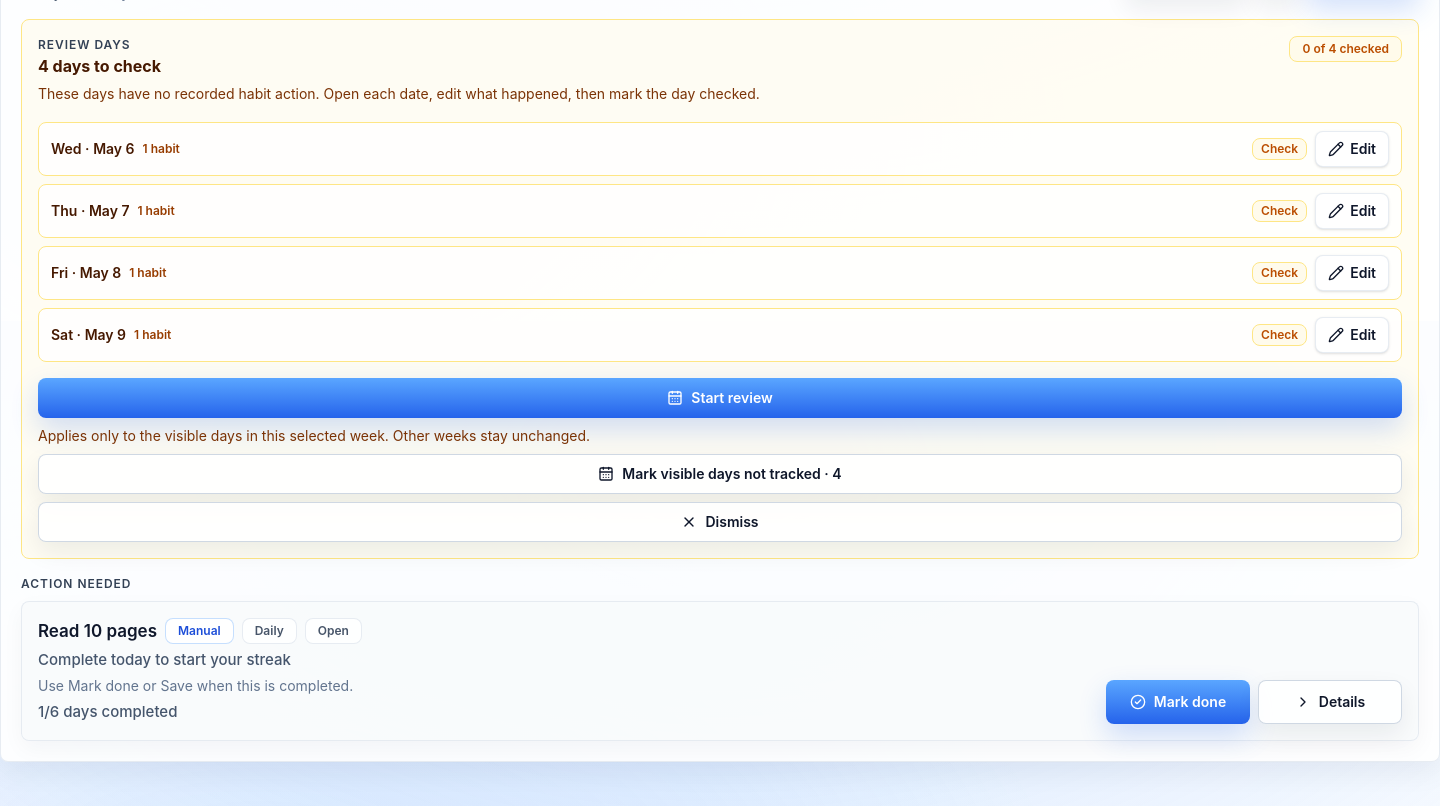
Scenario: HabitPerfectDayHub › keeps an already not-tracked date out of the visible batch request
(page scrolled)
Click the button named "Mark all 4 visible review days not tracked in this selected week" at (720, 474), box [38,454,1402,494]
(page scrolled)
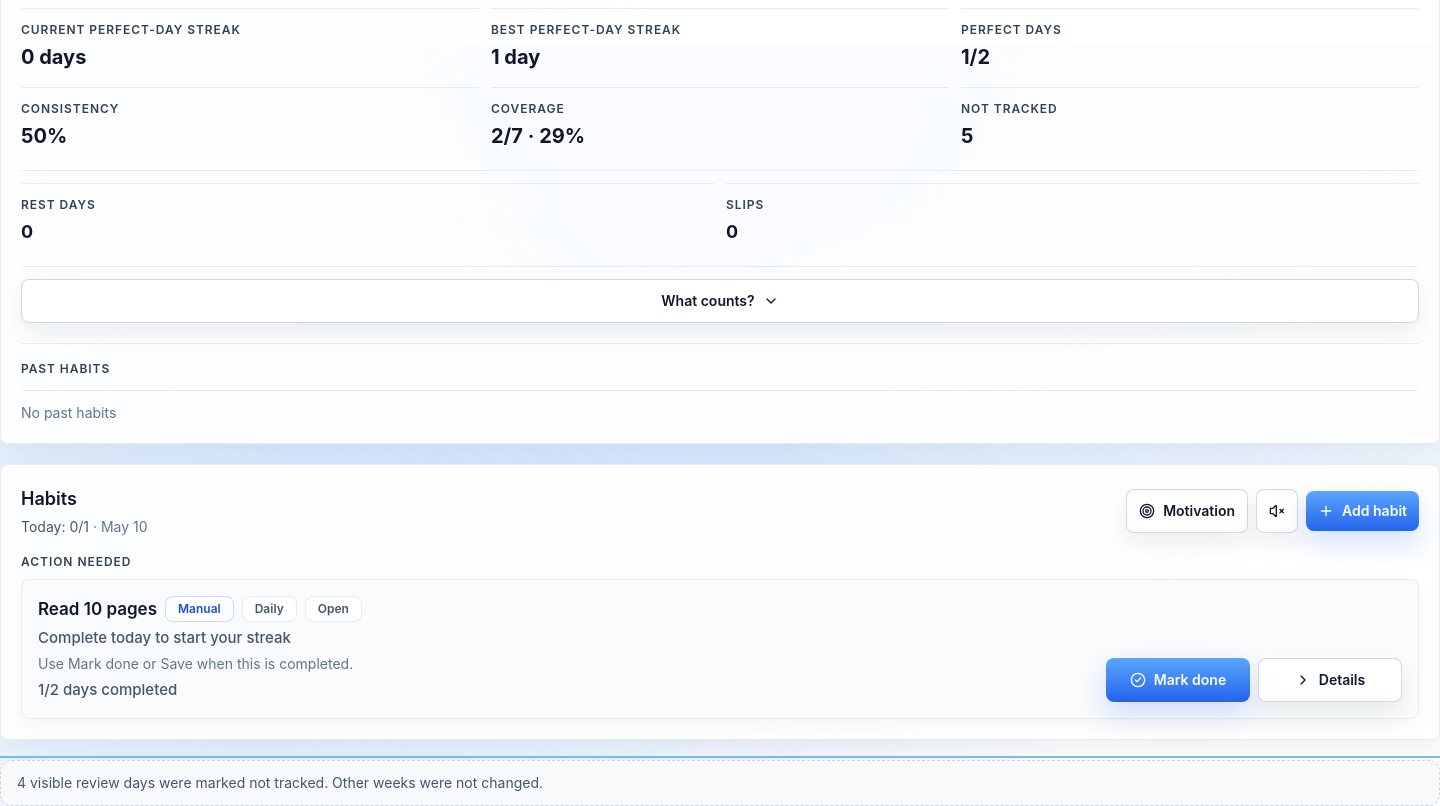
Check: the message with test id "habits-day-status-notice" reads "4 visible review days were marked not tracked. Other weeks were not changed.", box [17,774,543,790]
